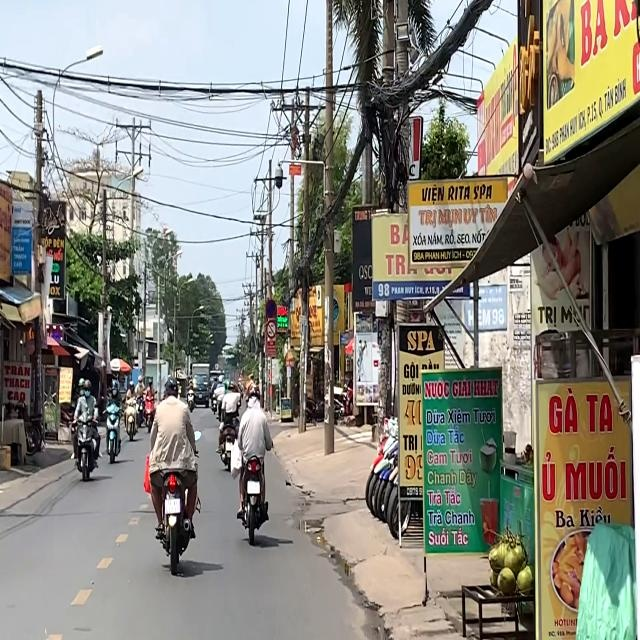bien_cam: (266, 300, 277, 318)
